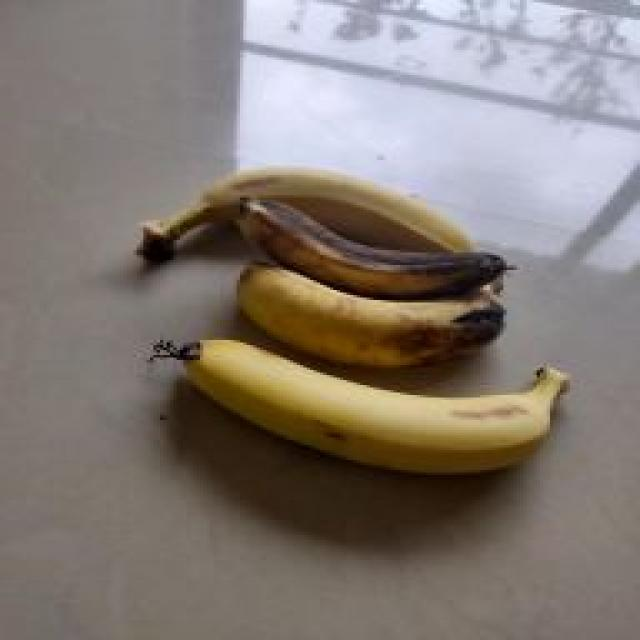Wet: (226, 188, 516, 300), (226, 255, 506, 370)
